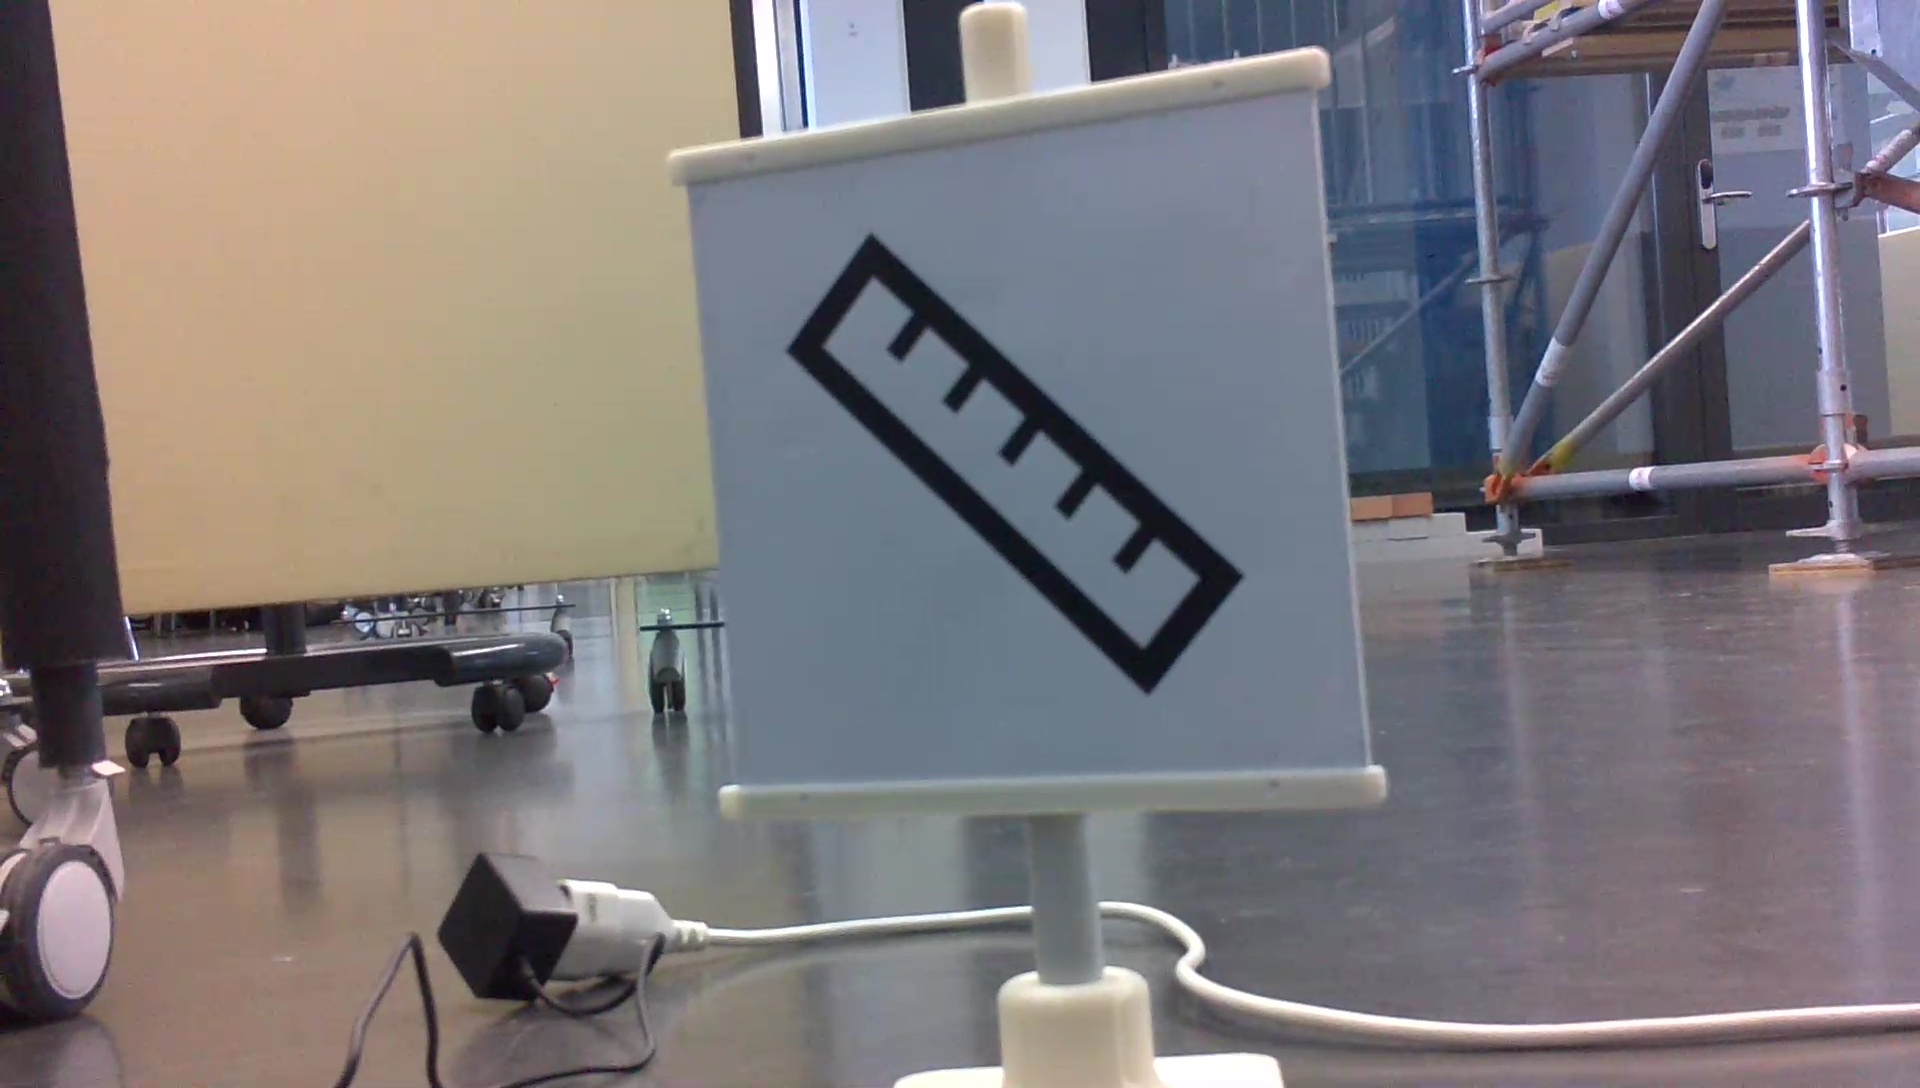ruler: (775, 222, 1247, 704)
